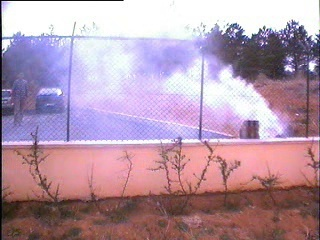smoke: (154, 53, 285, 139)
